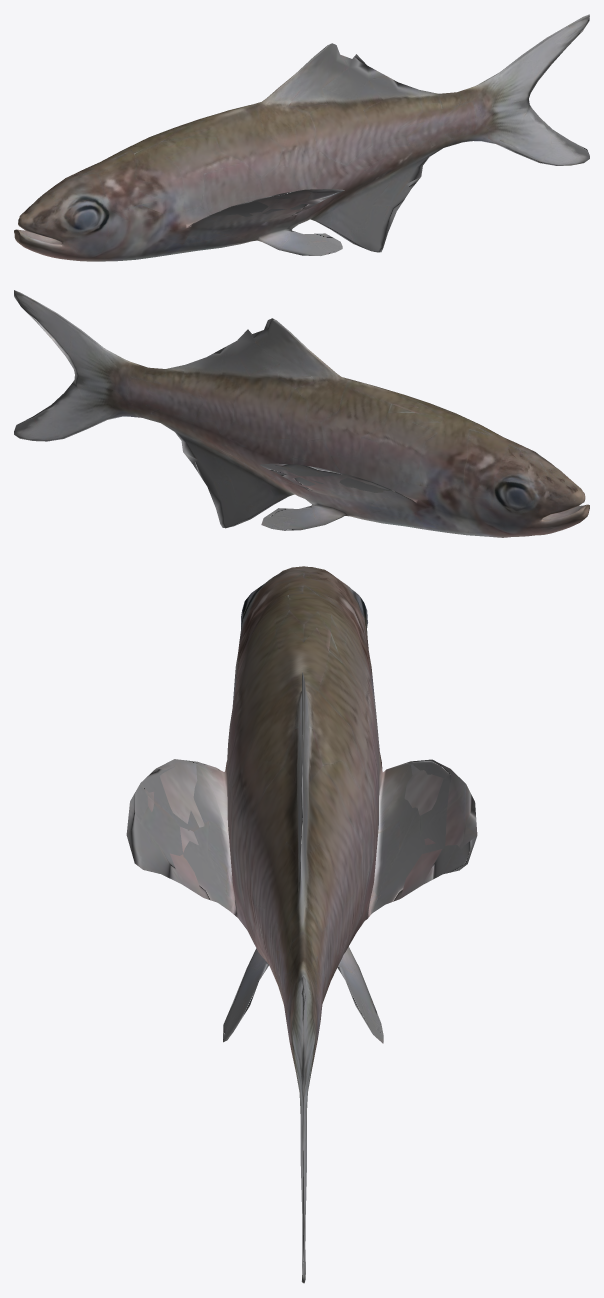
The model's file is fish.glb.
3 renders of one model, top to bottom at view 1: azimuth 30°, elevation 25°; view 2: azimuth 150°, elevation 25°; view 3: azimuth 270°, elevation 25°, orthographic. The views are drawn at different scales.
Parts seen in each view (by area): view 1: geometry_0; view 2: geometry_0; view 3: geometry_0.
Part boxes in pixels (x1,y1,x2,y2): geometry_0: (14,14,589,261); geometry_0: (14,290,589,537); geometry_0: (126,566,477,1283).
Bounding box in the file's own units: 1 × 0.3698 × 0.2655.
1 material, 1 textured.
